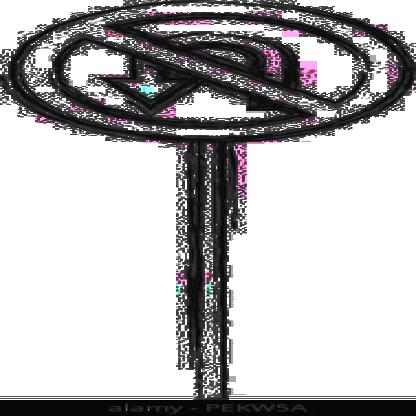No U-turn: (0, 0, 416, 145)
